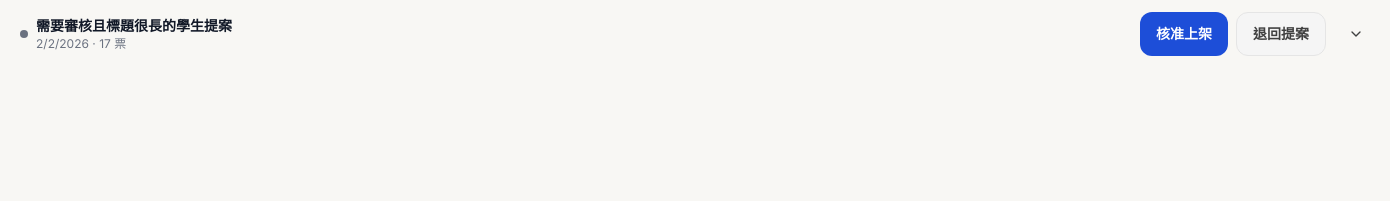
Test case: toggles full detail and attribution access when expanded=false
The image size is (1390, 201).
Step 1. Click the button named "提案詳情：需要審核且標題很長的學生提案" → click(1356, 34), box x1=1334 y1=12 x2=1378 y2=56
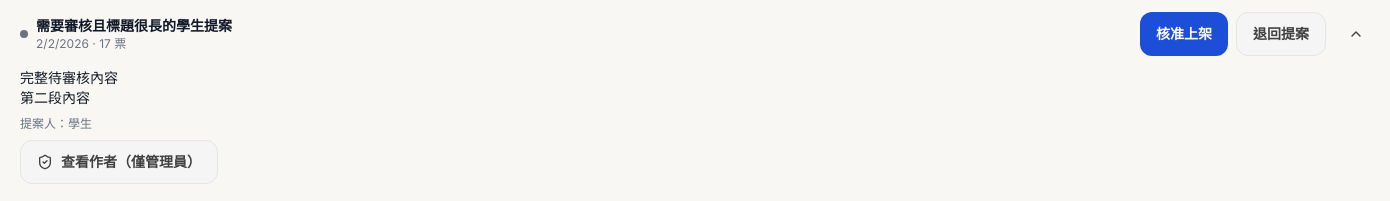
Now the text "完整待審核內容 第二段內容" is shown, box x1=20 y1=69 x2=118 y2=106
Now the button "查看作者（僅管理員）" is shown, box x1=20 y1=140 x2=218 y2=184
